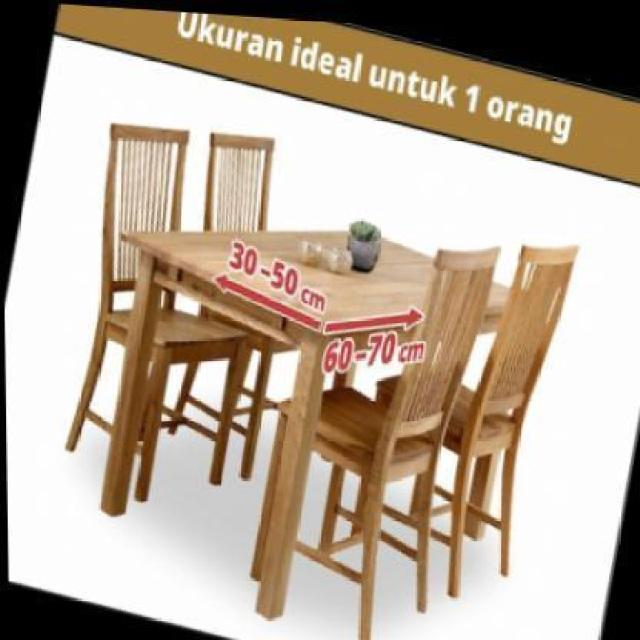tables: (114, 228, 518, 620)
